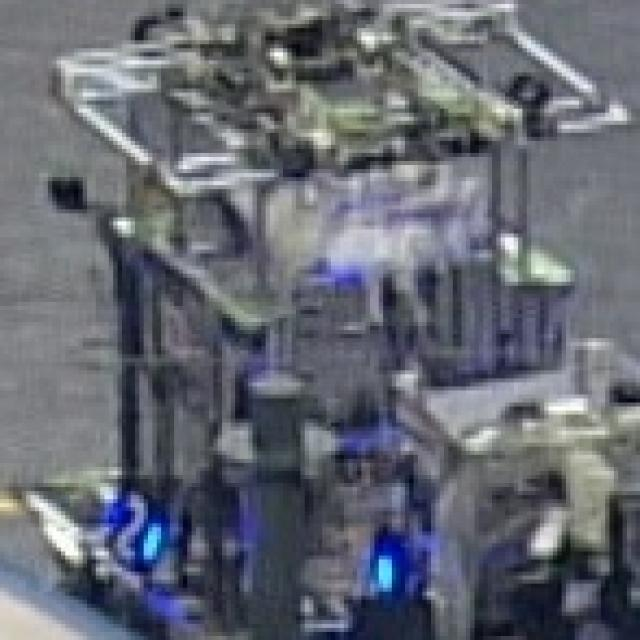B2: (105, 491, 161, 564)
